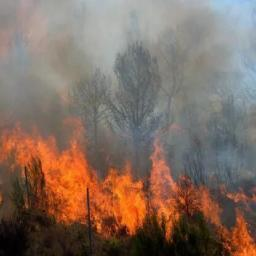Low smoke: (5, 2, 245, 128)
Medium fire: (1, 132, 183, 248)
Small fire: (185, 172, 256, 254)
